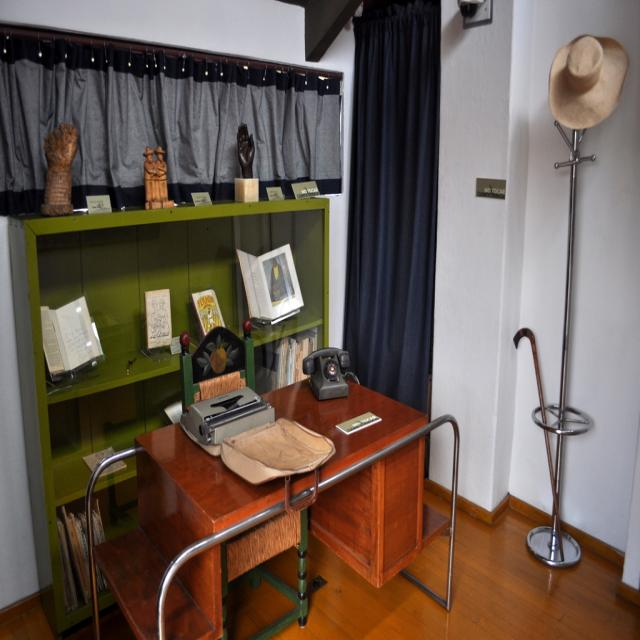chair: (84, 445, 220, 637)
desk: (86, 378, 455, 639)
